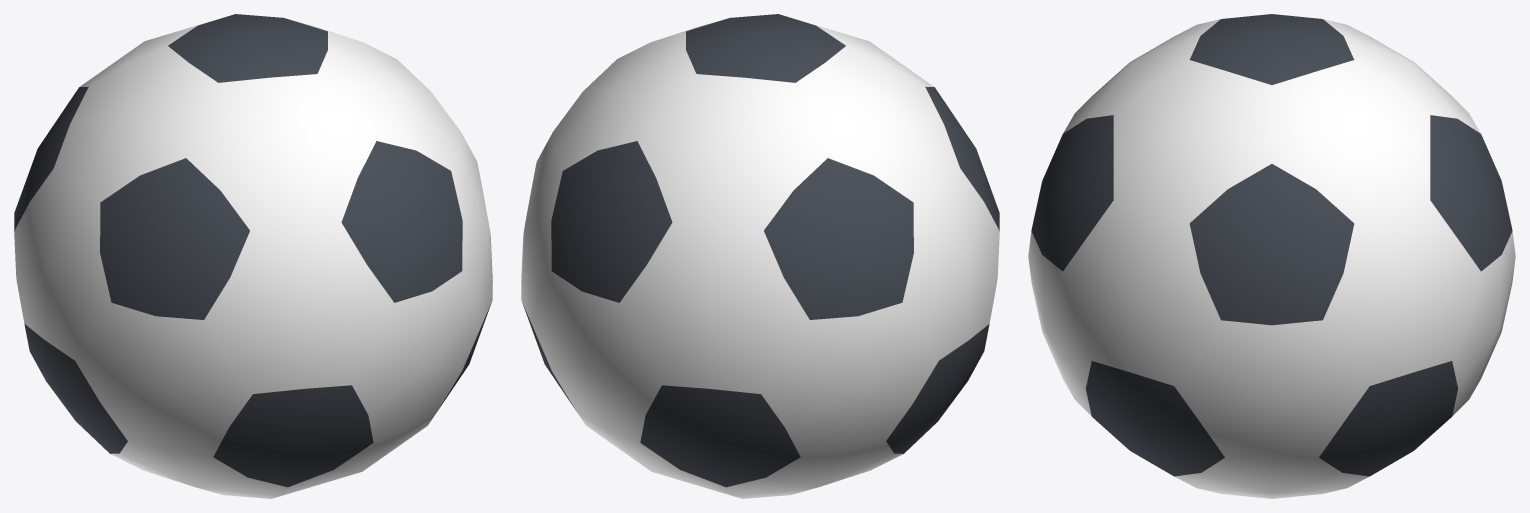
File: Ball.fbx
3 views of the same model, side by side, from view 1: azimuth 30°, elevation 25°; view 2: azimuth 150°, elevation 25°; view 3: azimuth 270°, elevation 25° (orthographic).
Parts seen in each view (by area): view 1: Ball; view 2: Ball; view 3: Ball.
Boxes of the visible parts, x1=… form: Ball: x1=14, y1=14, x2=492, y2=498; Ball: x1=521, y1=14, x2=999, y2=498; Ball: x1=1028, y1=14, x2=1515, y2=498.
Bounding box in the file's own units: 123 × 124 × 124.
